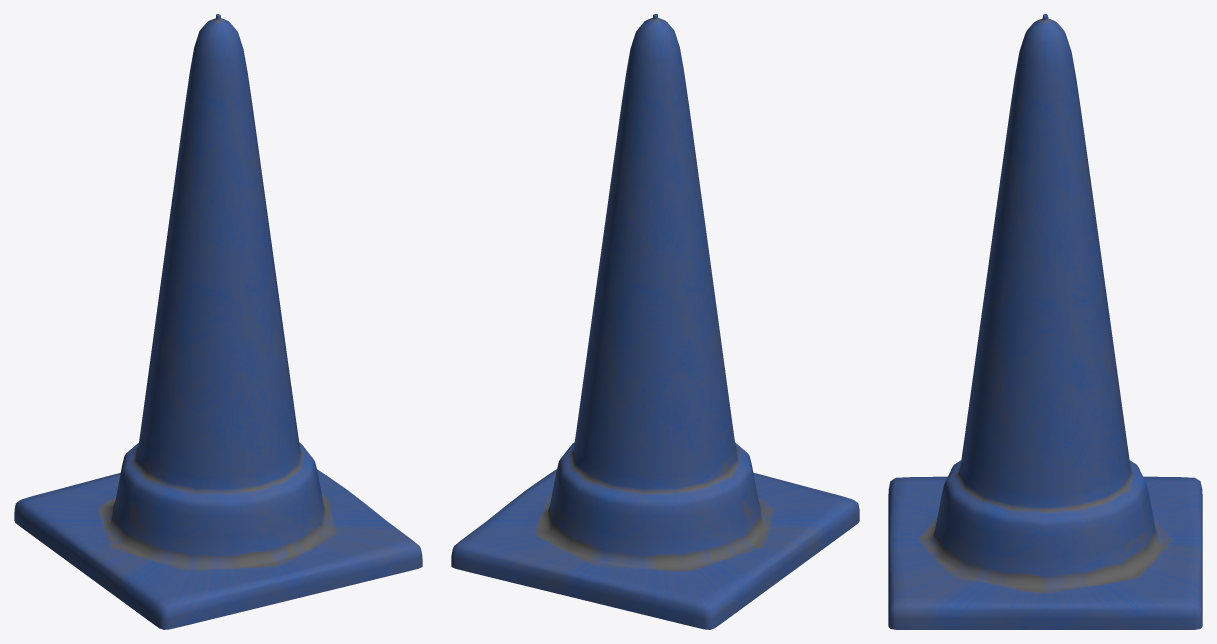
Rendered from ColorCone_Basic_Dirty_Blue_NoWeight.fbx.
3 views of the same model, side by side, from view 1: azimuth 30°, elevation 25°; view 2: azimuth 150°, elevation 25°; view 3: azimuth 270°, elevation 25° (orthographic). The views are drawn at different scales.
Visible parts, largest first — view 1: ColorCone_Basic_Dirty_Blue_NoWeight; view 2: ColorCone_Basic_Dirty_Blue_NoWeight; view 3: ColorCone_Basic_Dirty_Blue_NoWeight.
Boxes of the visible parts, x1,y1,x2,y2 form: ColorCone_Basic_Dirty_Blue_NoWeight: (14, 14, 422, 629); ColorCone_Basic_Dirty_Blue_NoWeight: (451, 14, 859, 629); ColorCone_Basic_Dirty_Blue_NoWeight: (888, 14, 1202, 629).
Size of the model in its own units: 38 by 38 by 73.14.
1 material, 1 textured.
